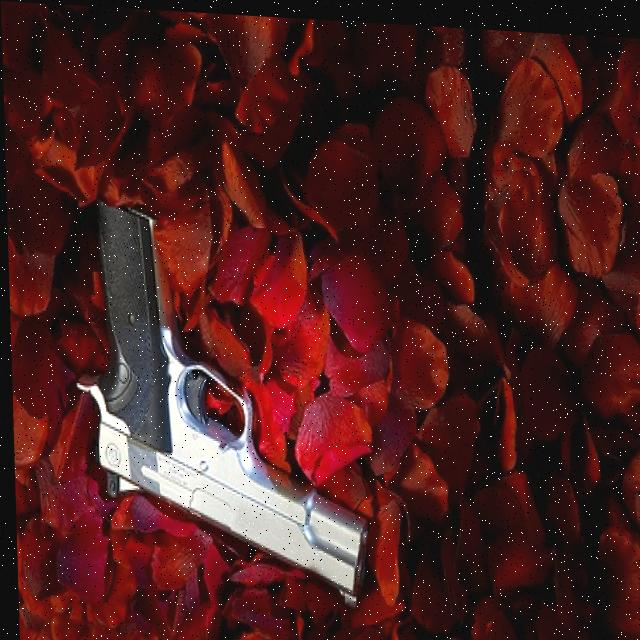pistol: (66, 191, 370, 607)
